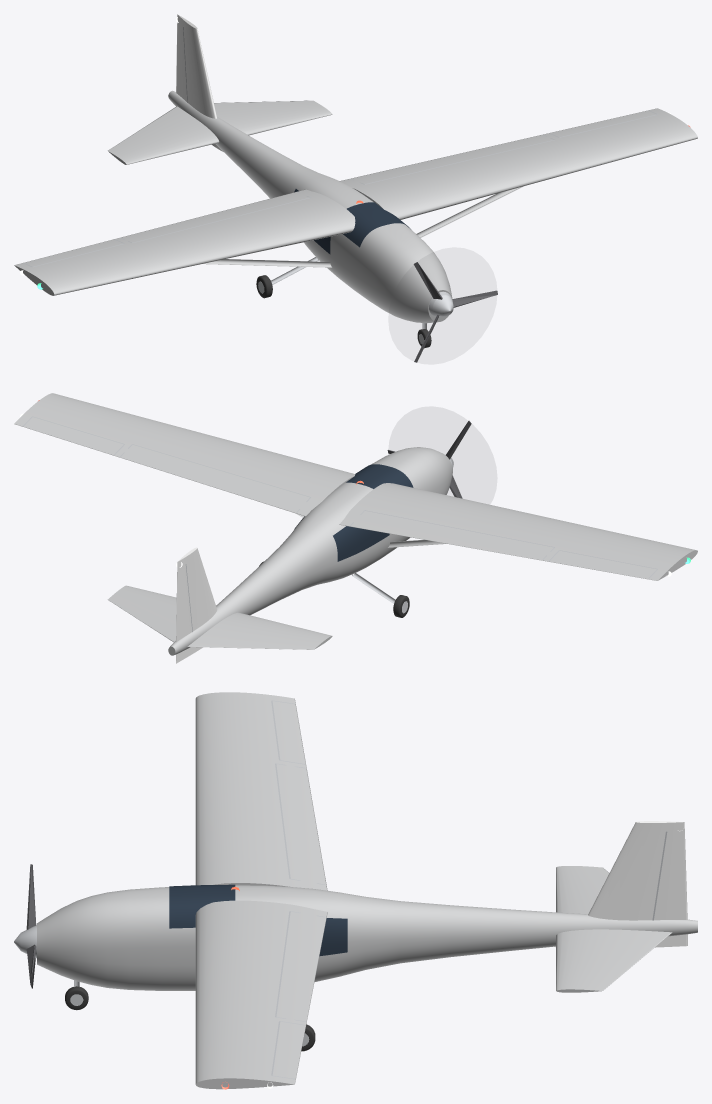
3 renders of one model, top to bottom at view 1: azimuth 30°, elevation 25°; view 2: azimuth 150°, elevation 25°; view 3: azimuth 270°, elevation 25°, orthographic. The views are drawn at different scales.
Parts seen in each view (by area): view 1: airframe, prop; view 2: airframe; view 3: airframe, prop.
Part boxes in pixels (x1,y1,x2,y2): airframe: [14, 14, 697, 348]; prop: [413, 262, 497, 362]; airframe: [14, 393, 697, 663]; airframe: [14, 692, 697, 1089]; prop: [26, 864, 36, 988].
Bounding box in the file's own units: 16.12 × 3.65 × 11.9.
